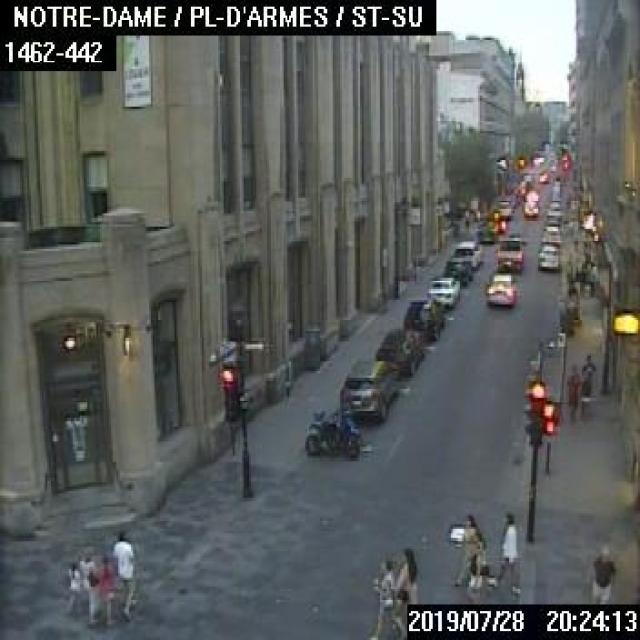pedestrian: (488, 511, 520, 594), (393, 544, 418, 637), (447, 510, 478, 585), (371, 557, 396, 638), (464, 531, 492, 602), (112, 529, 134, 617), (94, 554, 118, 624), (79, 547, 98, 623), (589, 544, 613, 600), (564, 361, 582, 421), (579, 349, 597, 409), (65, 554, 81, 620)
vehicle: (338, 357, 397, 418), (304, 410, 360, 458), (374, 330, 423, 380), (401, 297, 447, 342), (494, 234, 522, 272), (485, 272, 516, 306), (424, 276, 458, 306), (450, 238, 482, 269), (442, 258, 470, 284), (537, 240, 560, 267), (475, 217, 498, 243), (539, 222, 562, 244), (520, 188, 538, 214), (487, 208, 505, 231), (543, 210, 563, 227), (494, 196, 511, 215), (546, 195, 561, 209)
